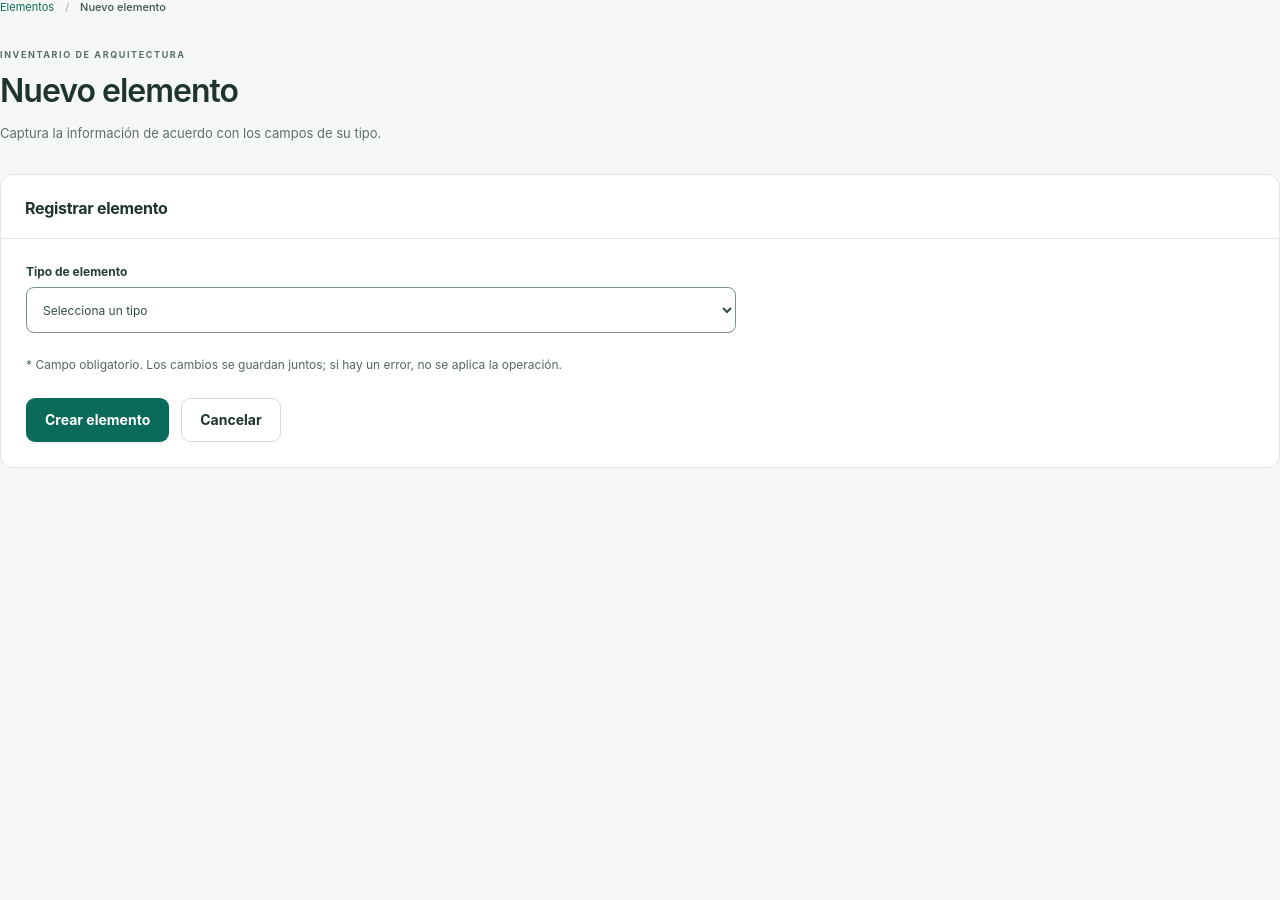
Test: un rechazo del servidor conserva la captura y permite reintentar
Select "Proyecto" in the dropdown labelled "Tipo de elemento". click: (381, 310)
box: [26, 288, 736, 334]
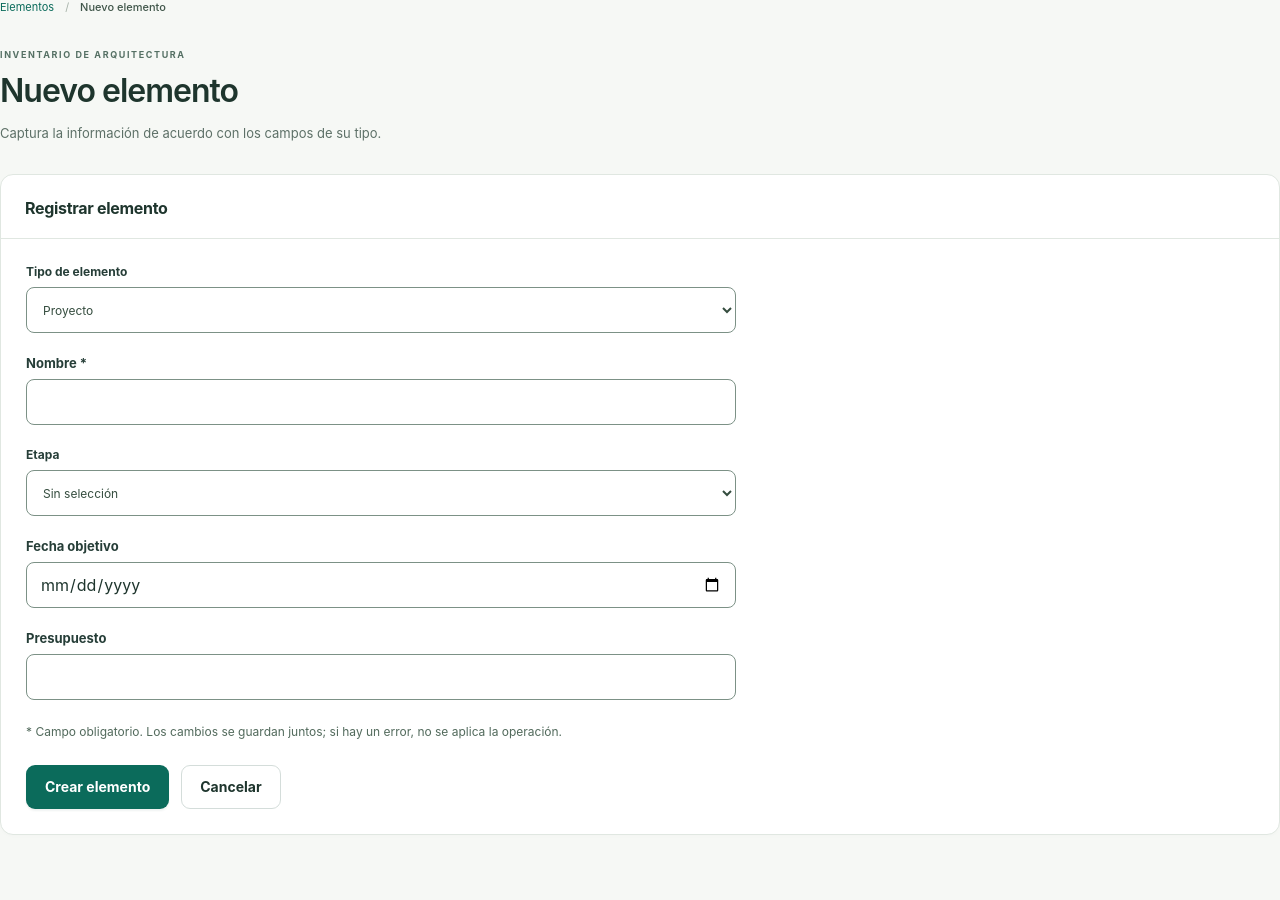
Type "Proyecto conservado" into the field labelled "Nombre *". click: (381, 402)
box: [26, 380, 736, 426]
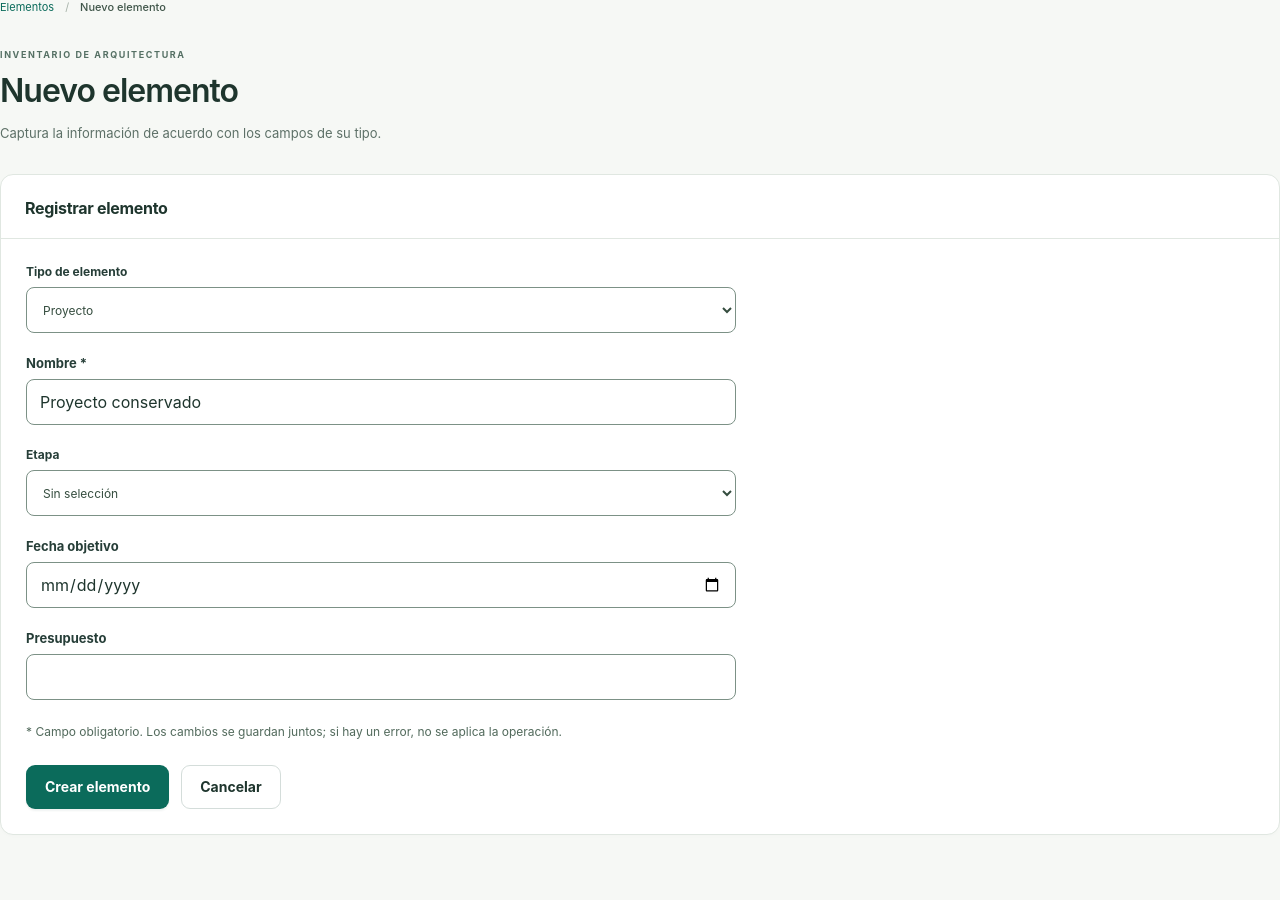
Click the button "Crear elemento". click: (98, 787)
box: [26, 765, 169, 809]
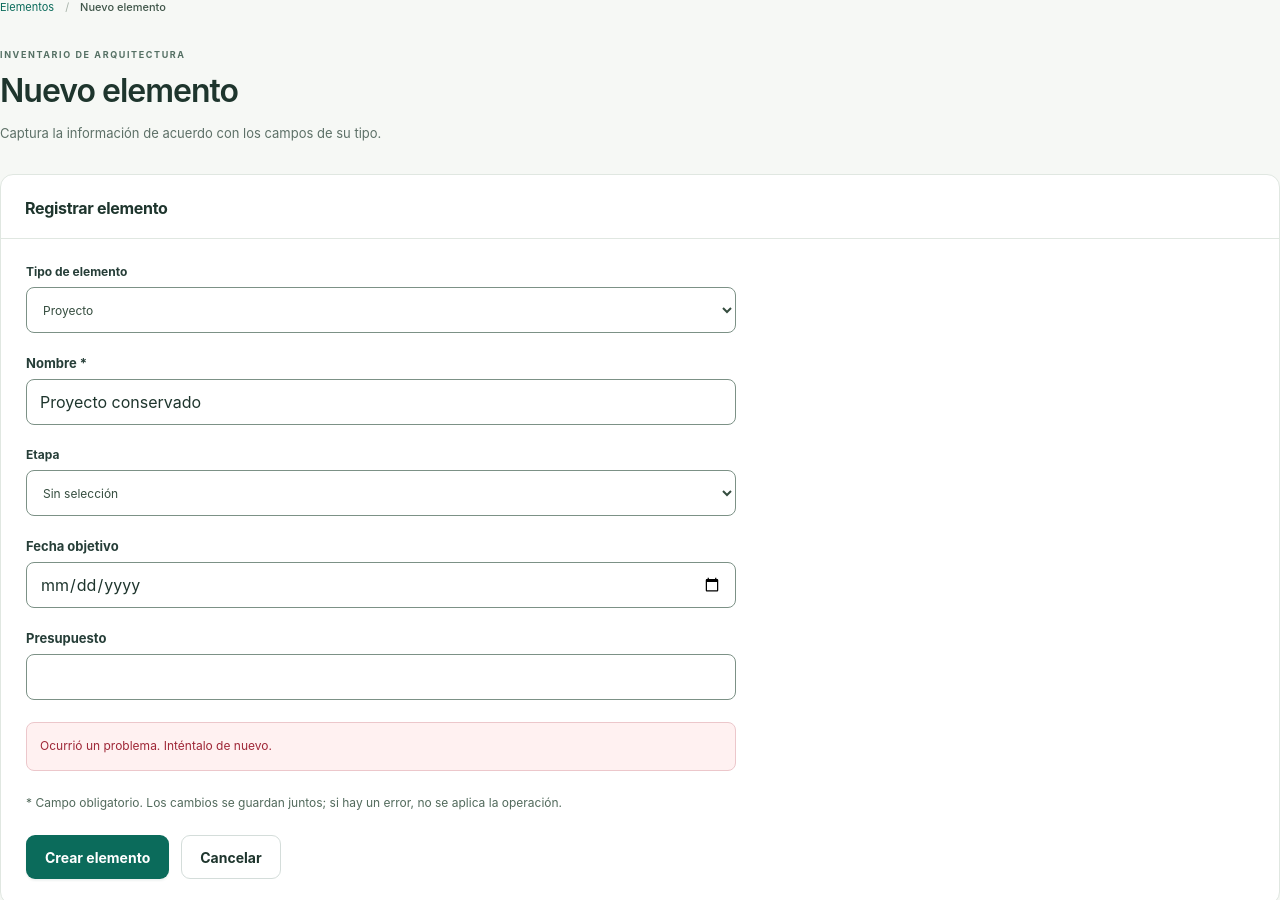
Expected: the button "Crear elemento" is enabled, [26, 835, 169, 879]
Expected: the message "Ocurrió un problema. Inténtalo de nuevo." is shown, [26, 722, 736, 771]
